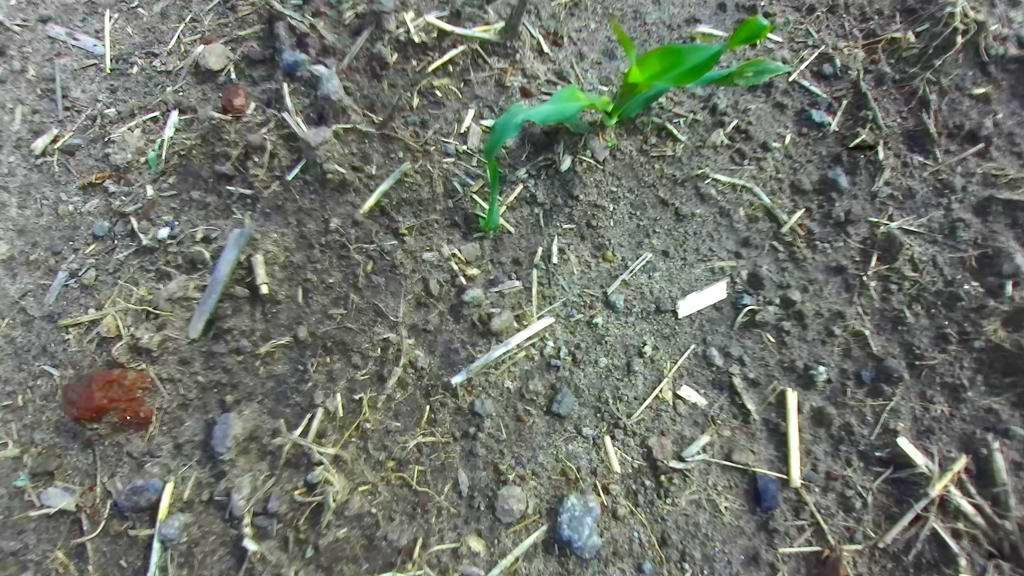BroWeed: (145, 136, 163, 170)
